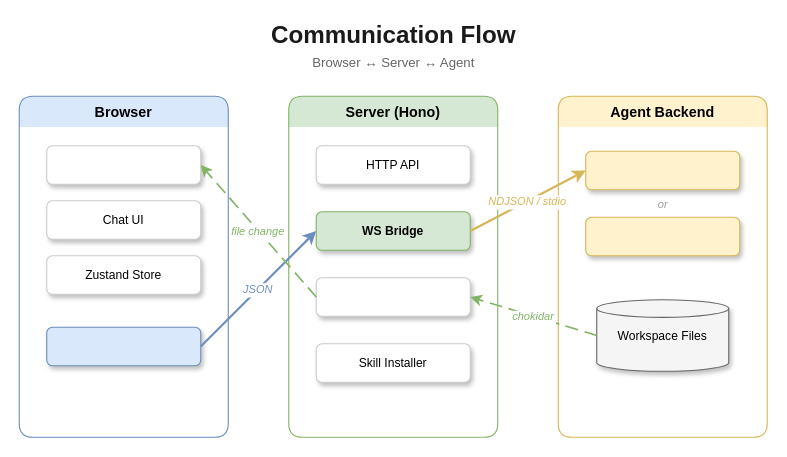
Some shapes in this 787 by 457 pixel diagram are drawn without their labels. Here are the shapes that lost their labels. From the top down, the centre of each, then its label:
At (x=124, y=166): "Viewer".
At (x=663, y=171): "Claude Code".
At (x=663, y=237): "Codex".
At (x=394, y=298): "File Watcher".
At (x=124, y=347): "WebSocket Client".
